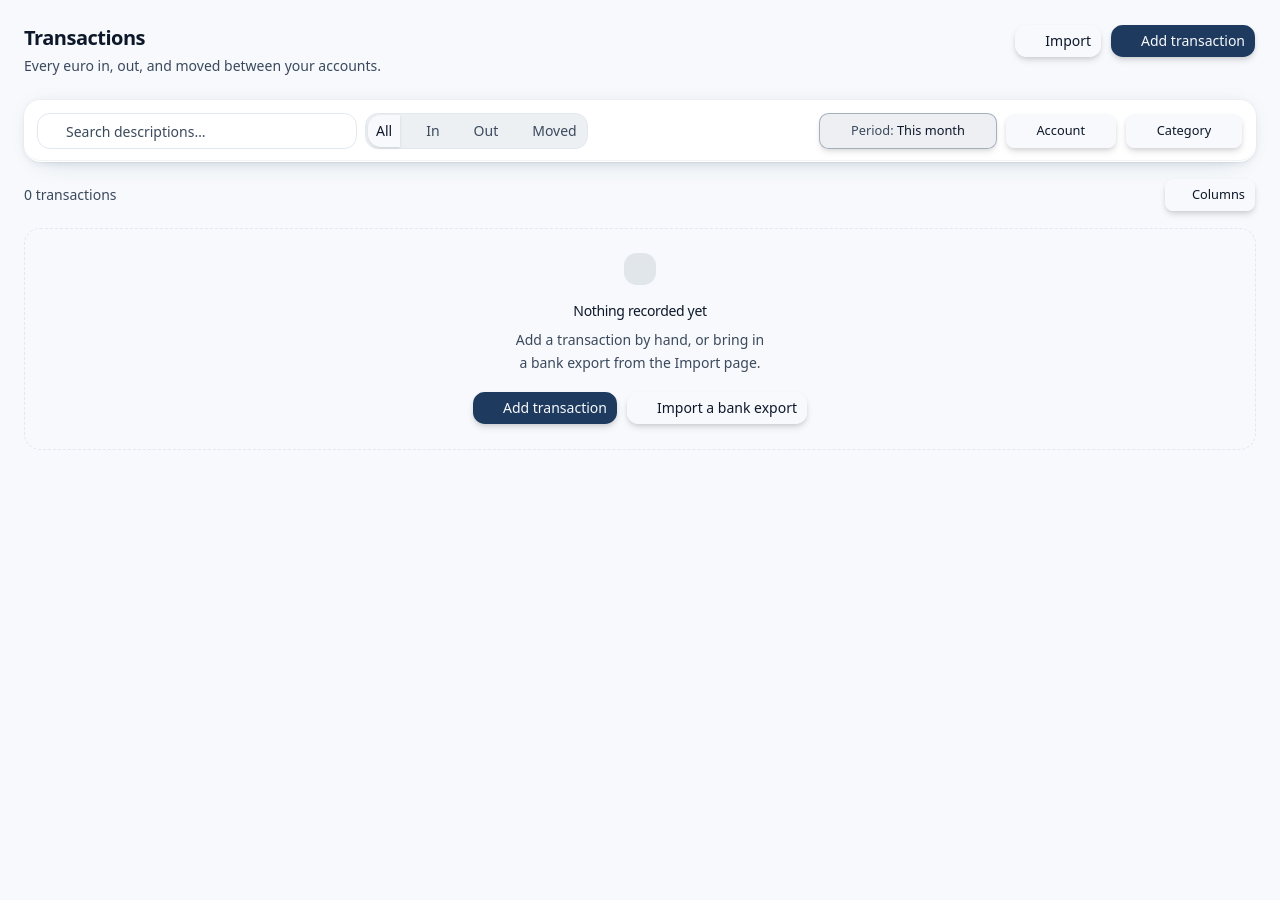
Test case: TransactionsPage › opens the add-transaction dialog
The width and height of the screenshot is (1280, 900).
Step 1. Click the 1st button "Add transaction" → (1183, 41), box [1110,24,1256,58]
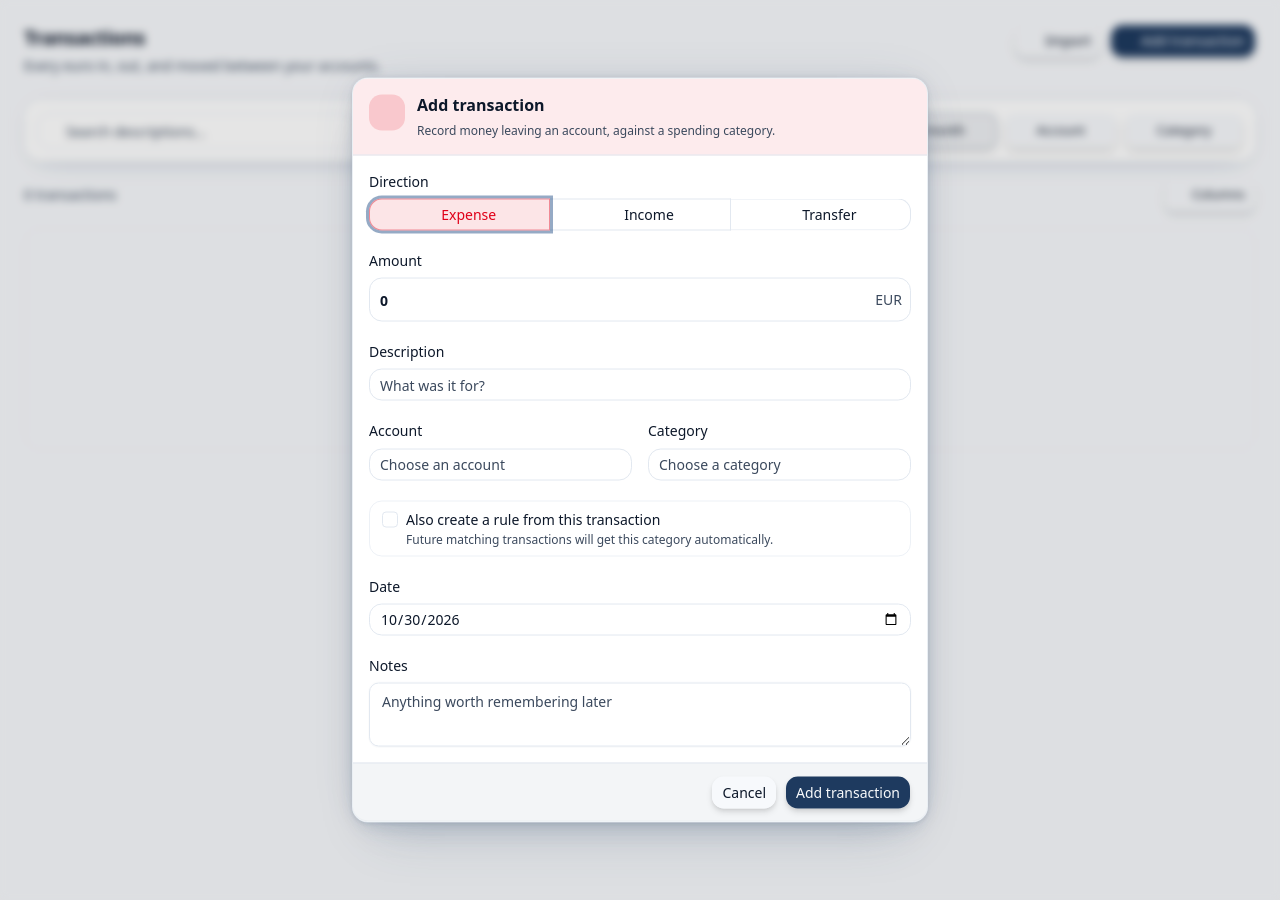
Now the heading "Add transaction" is shown, box [417,94,545,116]
Now the field labelled "Description" is shown, box [369,369,911,401]
